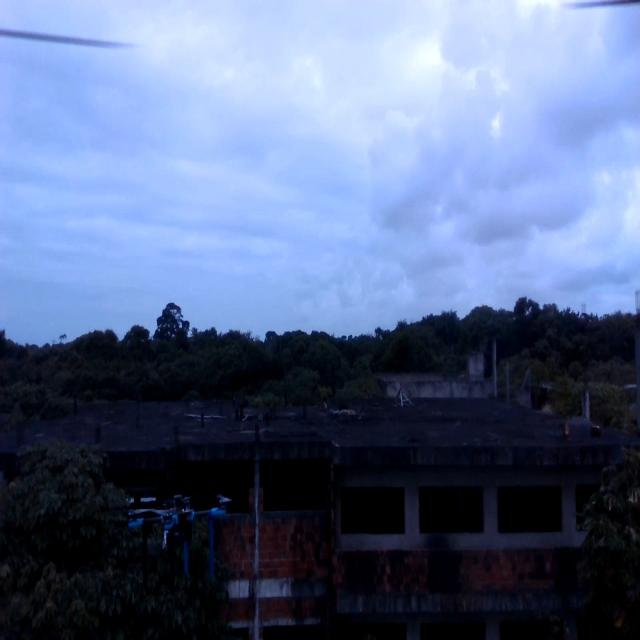-uav-: (112, 464, 248, 585)
